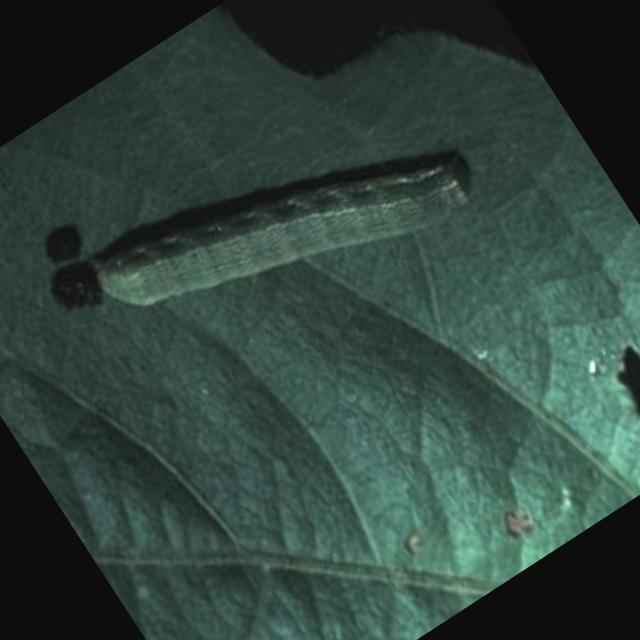Beet armyworm: (0, 0, 538, 487)
